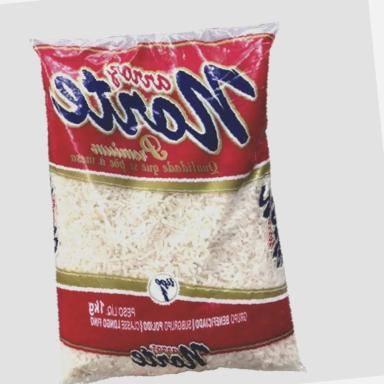rice package: (33, 24, 302, 383)
